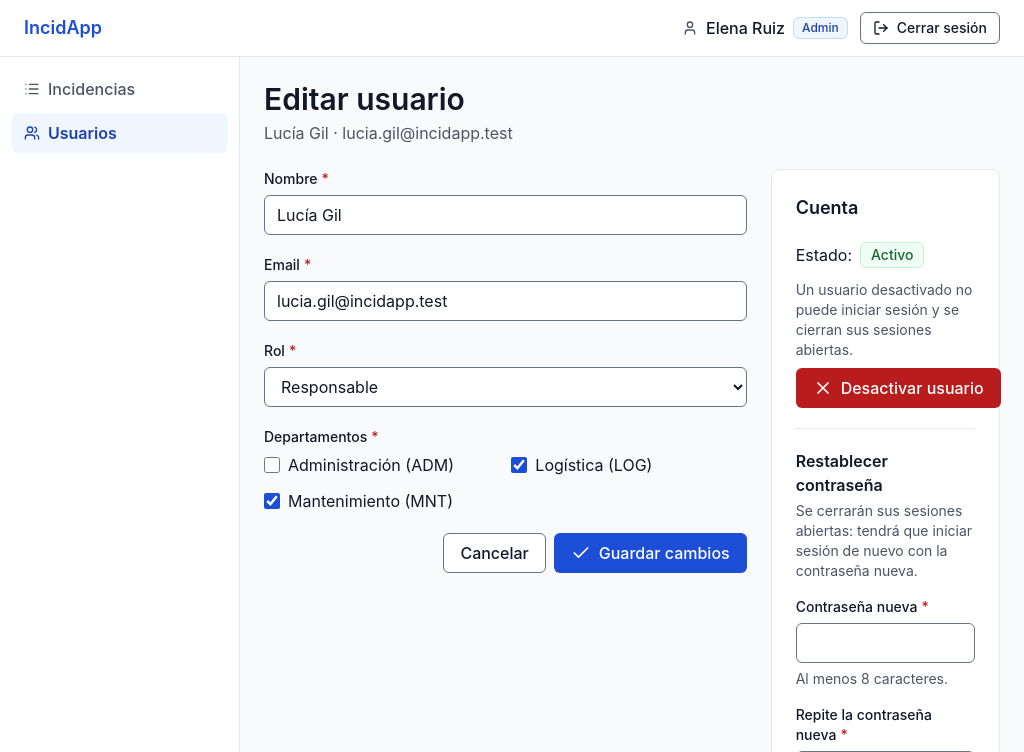
it: CA-02.20 · desactivar y reactivar › si la desactivación falla, muestra el error dentro del diálogo
This screenshot has width=1024, height=752.
What coordinates should you click on to do the following:
click the button "Desactivar usuario"
I would click on:
 (898, 388)
Its box is x1=796 y1=368 x2=1001 y2=408.
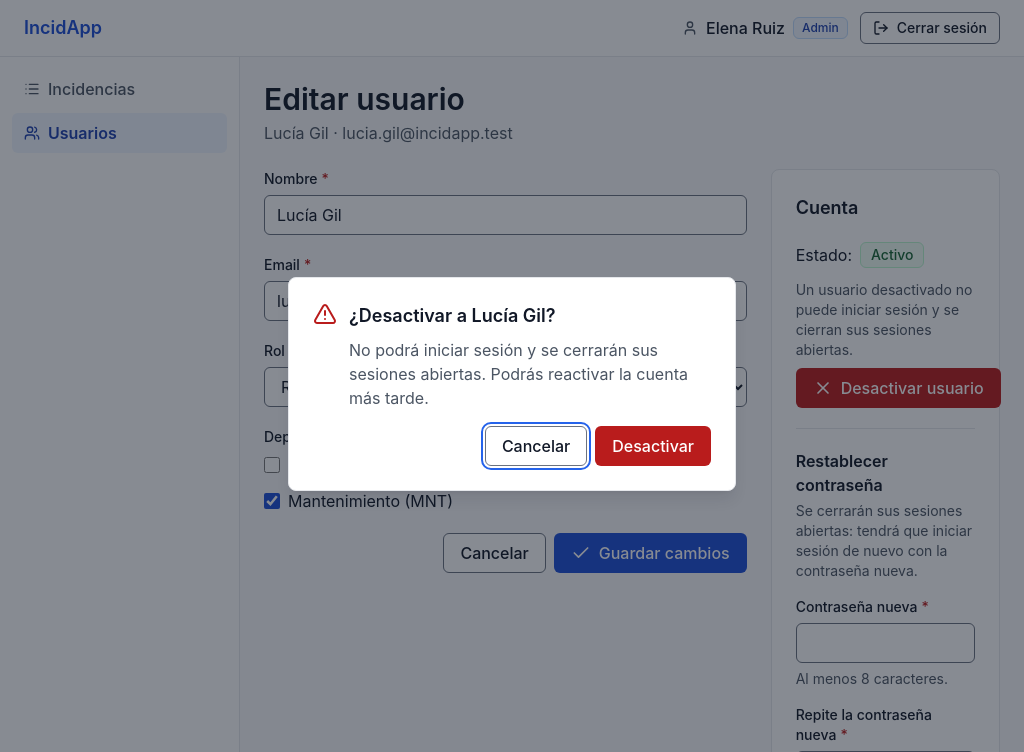
What coordinates should you click on to do the following:
click the button "Desactivar"
I would click on:
 (653, 446)
Its box is x1=595 y1=426 x2=711 y2=466.
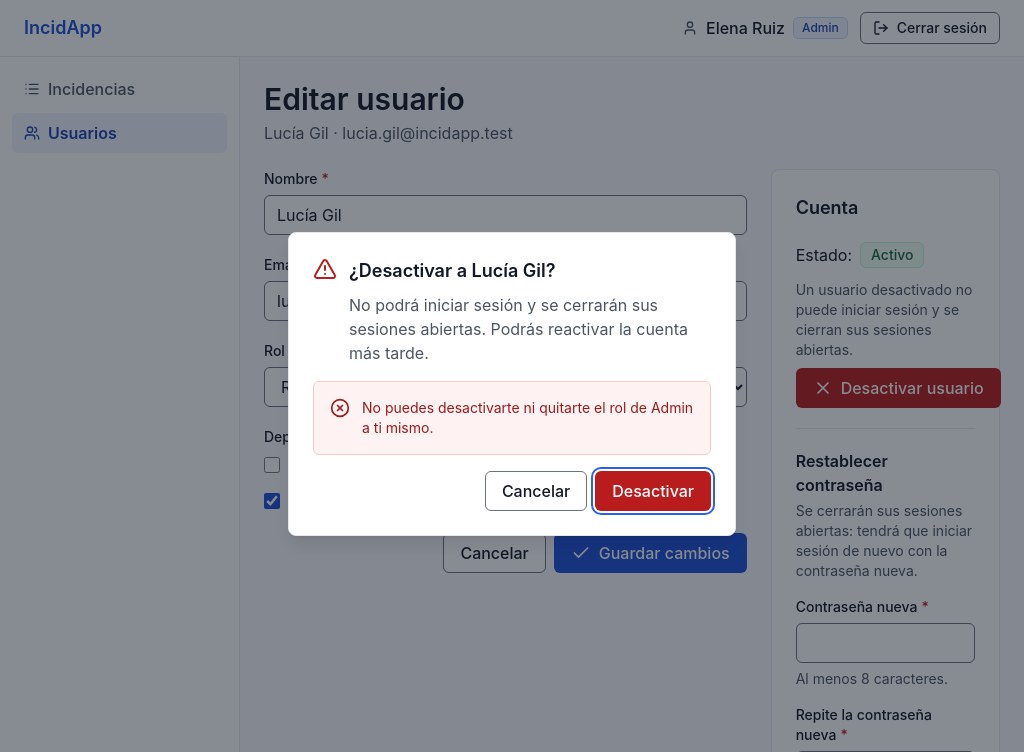
Now the message reads "No puedes desactivarte ni quitarte el rol de Admin a ti mismo.", box x1=362 y1=399 x2=693 y2=436
